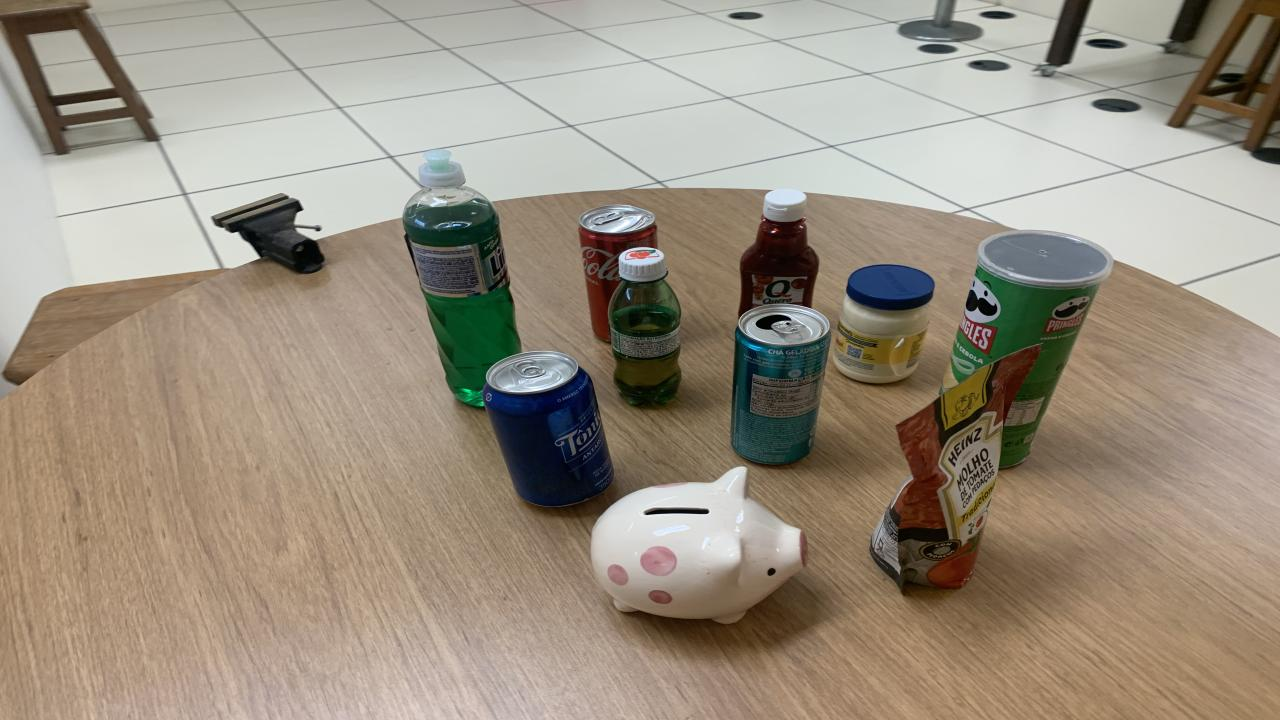Coke-Drinks: (578, 204, 658, 341)
Detergent-Cleanup_Items: (402, 150, 522, 407)
Guarana-Drinks: (608, 248, 680, 405)
Ketchup-Pantry_Items: (738, 189, 820, 315)
Mayonnaise-Pantry_Items: (832, 264, 935, 382)
Pig_Safe-Miscellaneous: (590, 467, 808, 624)
Pringles-Snacks: (945, 232, 1112, 467)
Tea-Drinks: (730, 304, 830, 465)
Tomato_Sauce-Pantry_Items: (870, 345, 1040, 589)
Tonic-Drinks: (482, 351, 612, 506)
